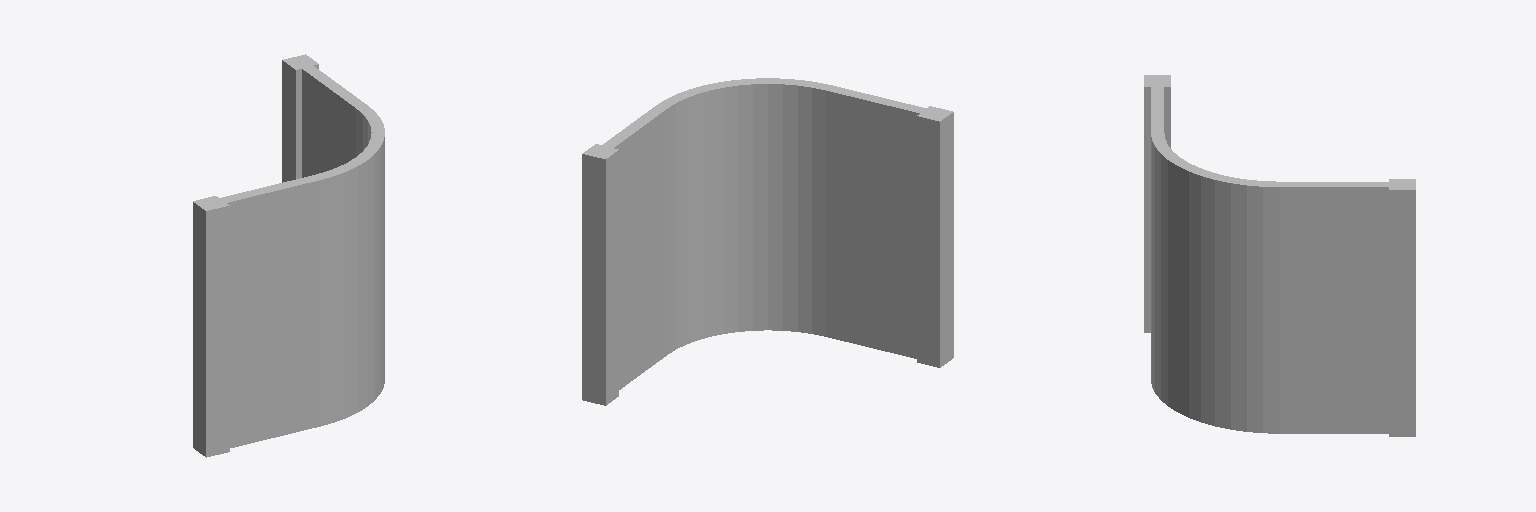
File: wall-wood-rounded.obj
3 views of the same model, side by side, from view 1: azimuth 30°, elevation 25°; view 2: azimuth 150°, elevation 25°; view 3: azimuth 270°, elevation 25° (orthographic).
Visible parts, largest first — view 1: wall-wood-rounded; view 2: wall-wood-rounded; view 3: wall-wood-rounded.
Part boxes in pixels (x1,y1,x2,y2): wall-wood-rounded: (193,54,384,457); wall-wood-rounded: (582,78,953,405); wall-wood-rounded: (1144,75,1415,436).
Size of the model in its own units: 1 by 1 by 1.